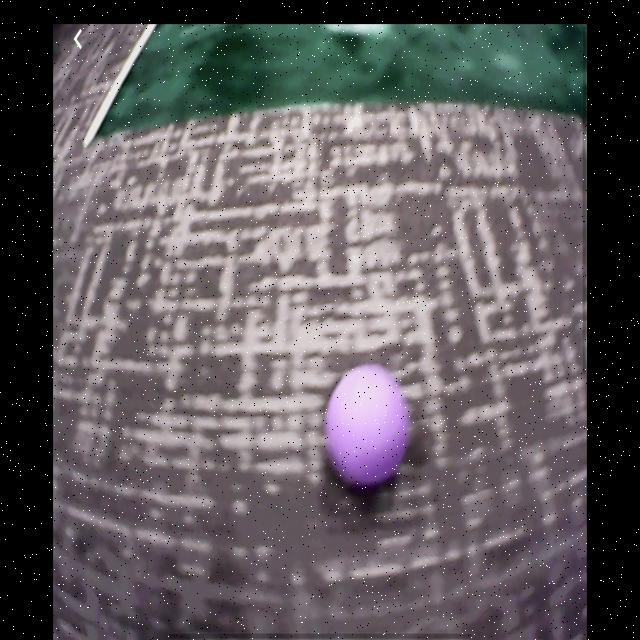ball: (327, 365, 407, 489)
